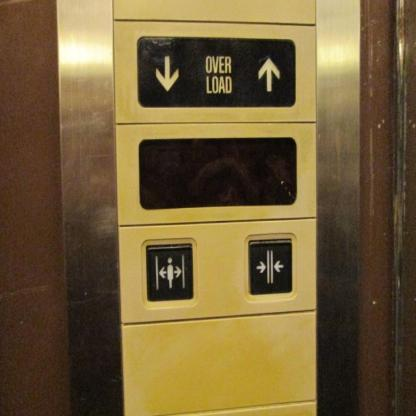close: (243, 233, 298, 301)
led: (138, 138, 296, 210), (137, 35, 296, 106)
open: (141, 237, 198, 307)
